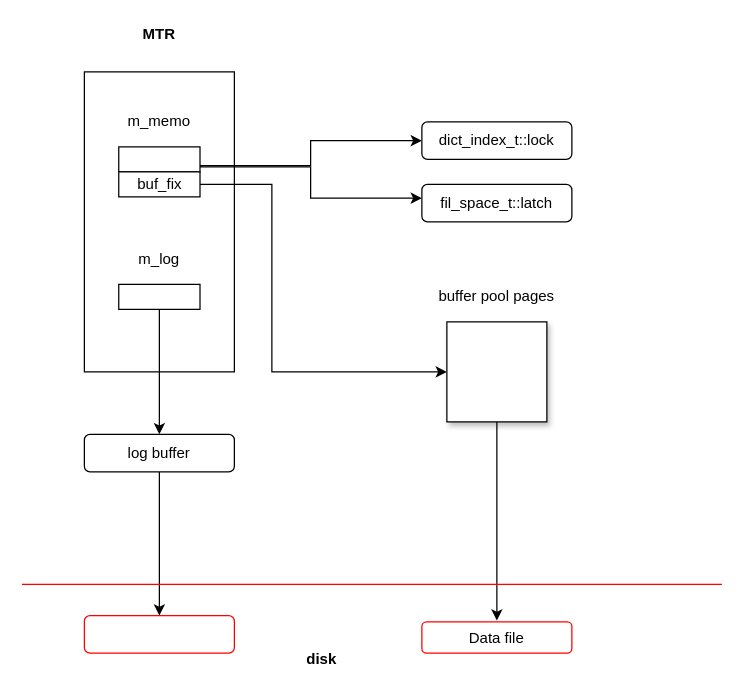
Some shapes in this 745 by 693 pixel diagram are drawn without their labels. The shapes that lost their labels are listed below. From the top down, each one's centre as x and y in pixels, then its label:
At pixel 159 159: "rwlock".
At pixel 159 296: "page changes".
At pixel 158 633: "redo log".
